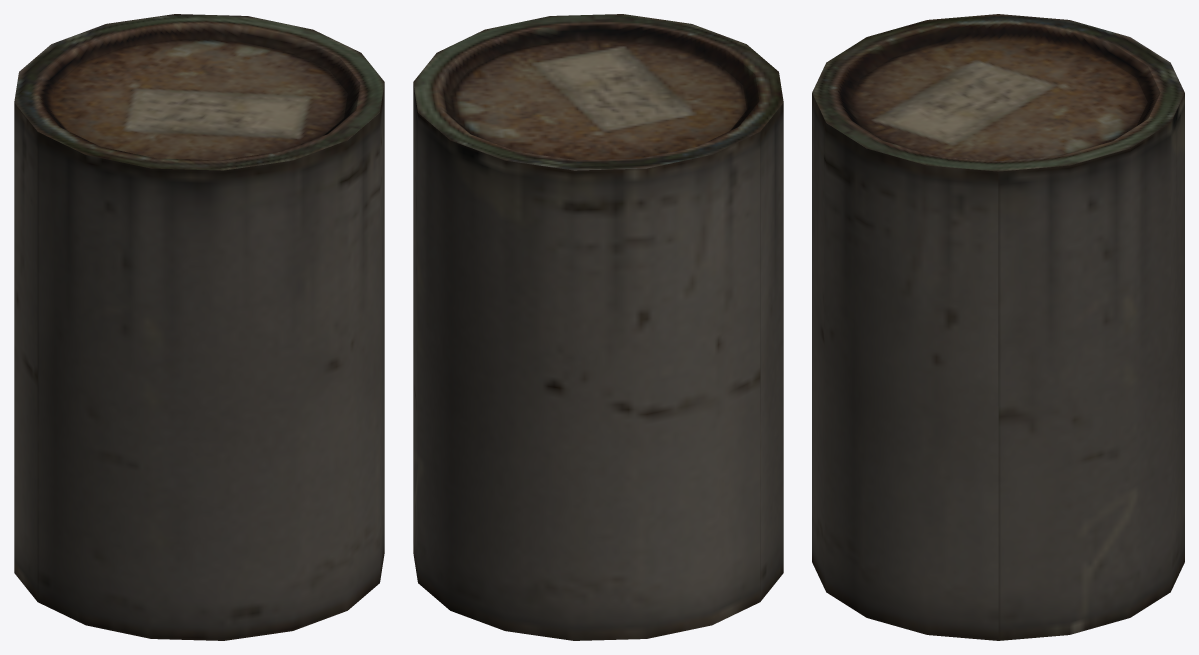
The model's file is paint_can_mx_1.dae.
3 views of the same model, side by side, from view 1: azimuth 30°, elevation 25°; view 2: azimuth 150°, elevation 25°; view 3: azimuth 270°, elevation 25° (orthographic).
Parts seen in each view (by area): view 1: paint_can_mx_1; view 2: paint_can_mx_1; view 3: paint_can_mx_1.
Boxes of the visible parts, box(x1,y1,x2,y2) form: paint_can_mx_1: box(14, 14, 384, 640); paint_can_mx_1: box(413, 14, 783, 640); paint_can_mx_1: box(812, 14, 1184, 640).
Size of the model in its own units: 0.18 by 0.18 by 0.25.
1 material, 1 textured.
